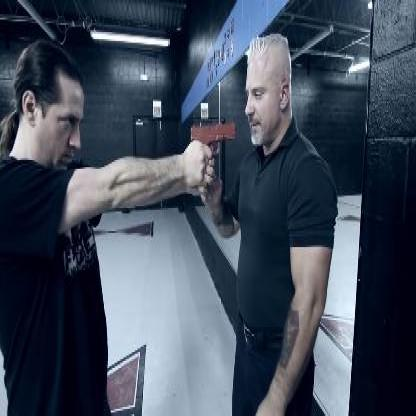pistol: (189, 121, 235, 156)
